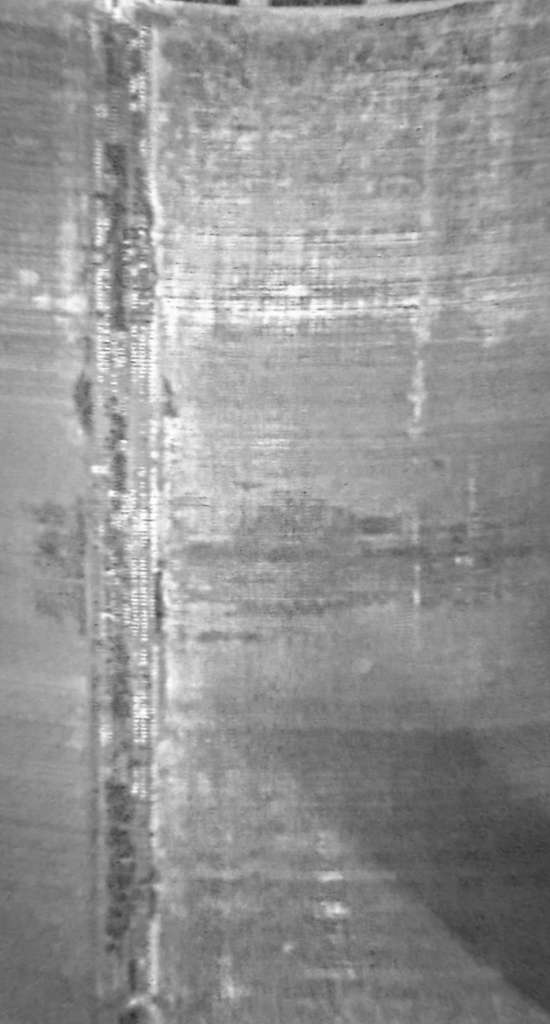splice: (84, 1, 169, 1024)
